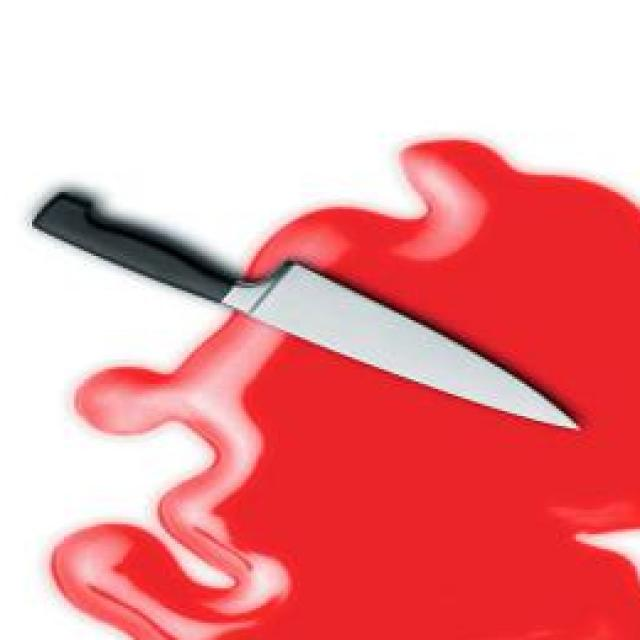knife: (30, 187, 592, 431)
